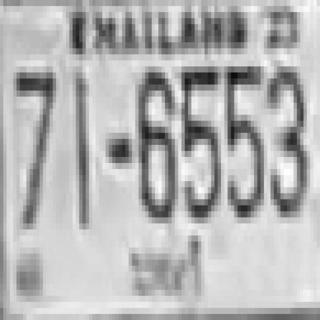N01: (74, 70, 87, 226)
N03: (266, 60, 305, 211)
N05: (180, 60, 219, 217), (223, 60, 262, 217)
N06: (135, 66, 175, 218)
N07: (13, 66, 53, 224)
